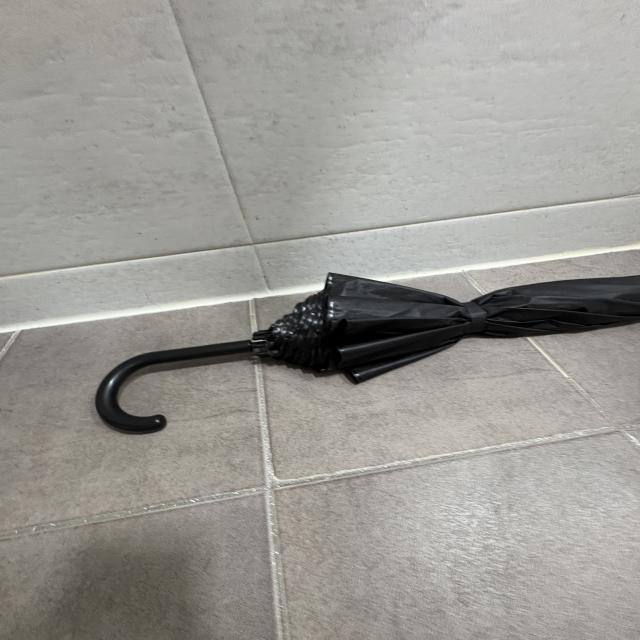umbrella: (97, 272, 640, 438)
